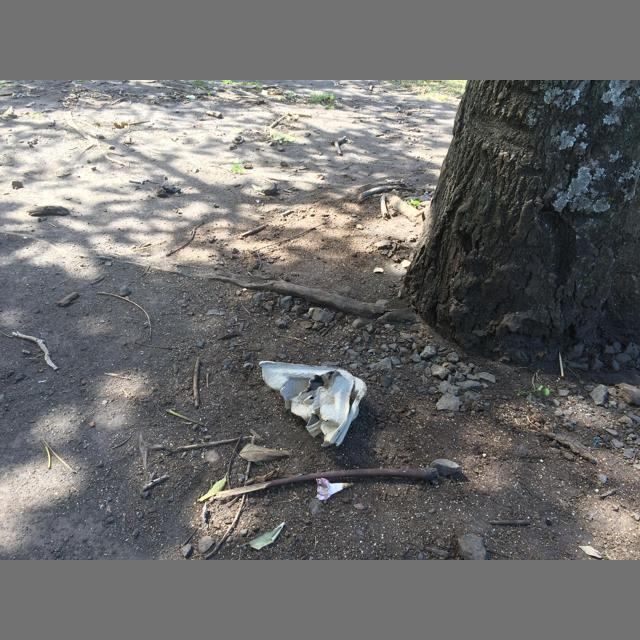litter: (258, 361, 367, 447), (592, 436, 602, 446)
